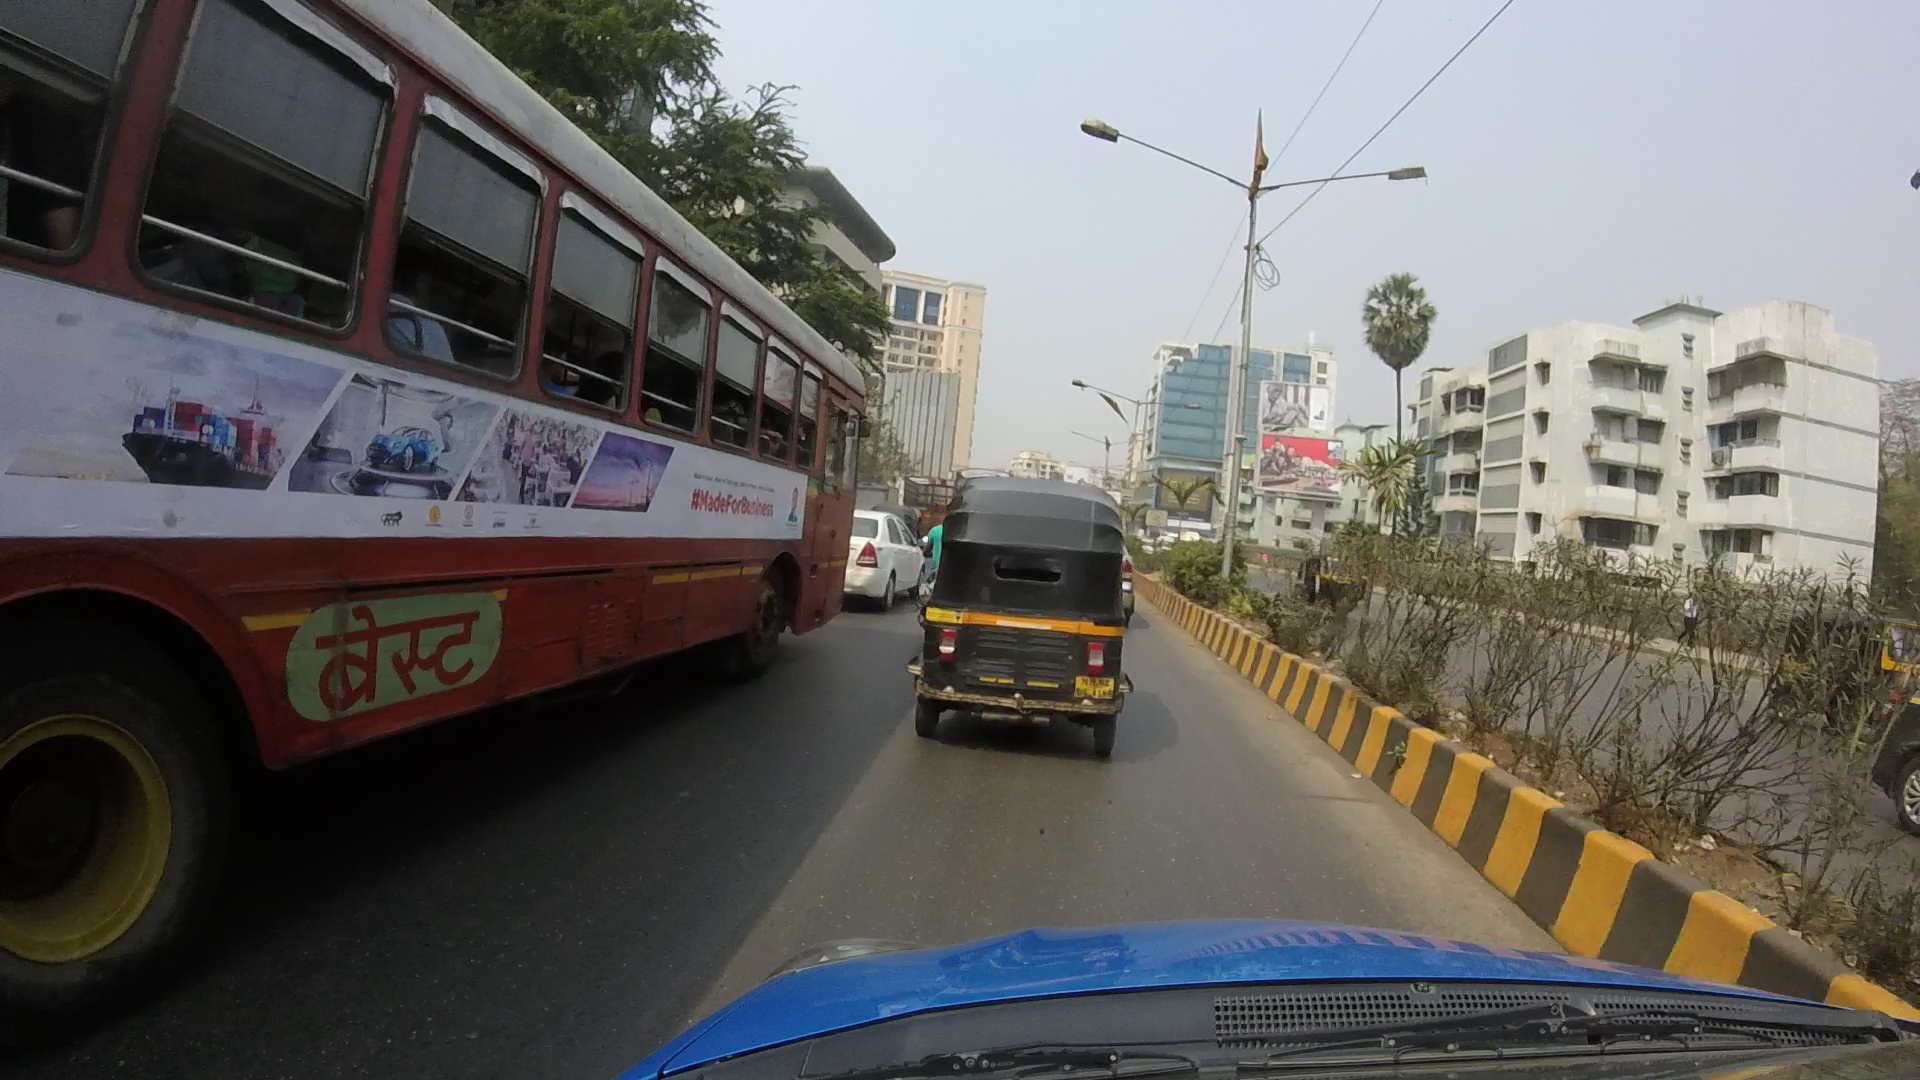bus: (15, 13, 889, 1004)
car: (843, 465, 920, 616)
rickshaw: (920, 469, 1149, 745)
